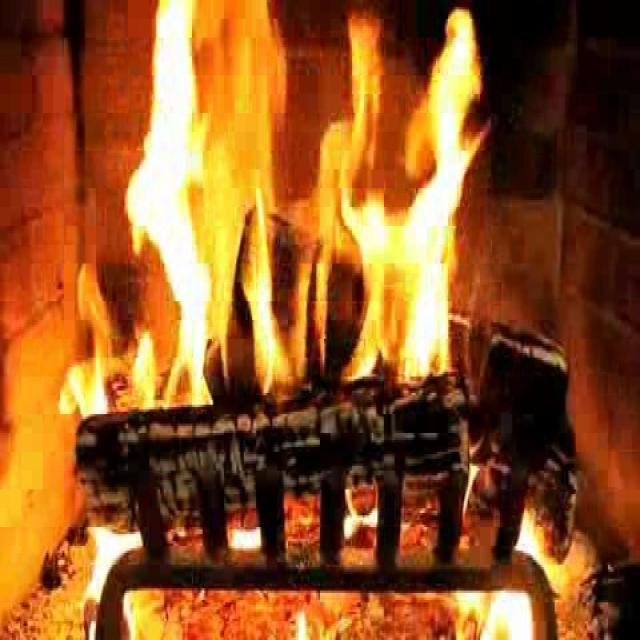fire: (131, 2, 476, 398)
